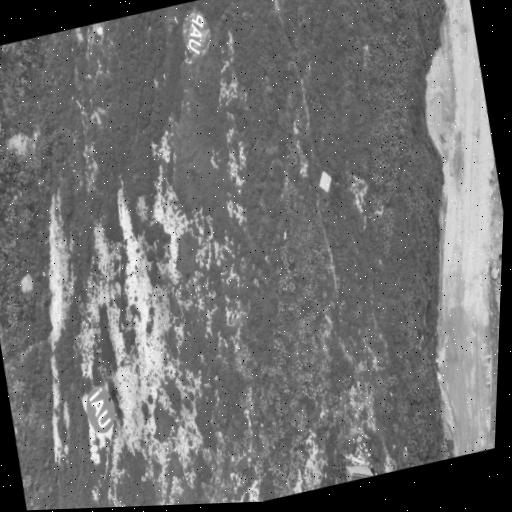person: (108, 390, 115, 400), (369, 467, 375, 475)
uai: (85, 385, 114, 432)
uap: (182, 8, 210, 56)
